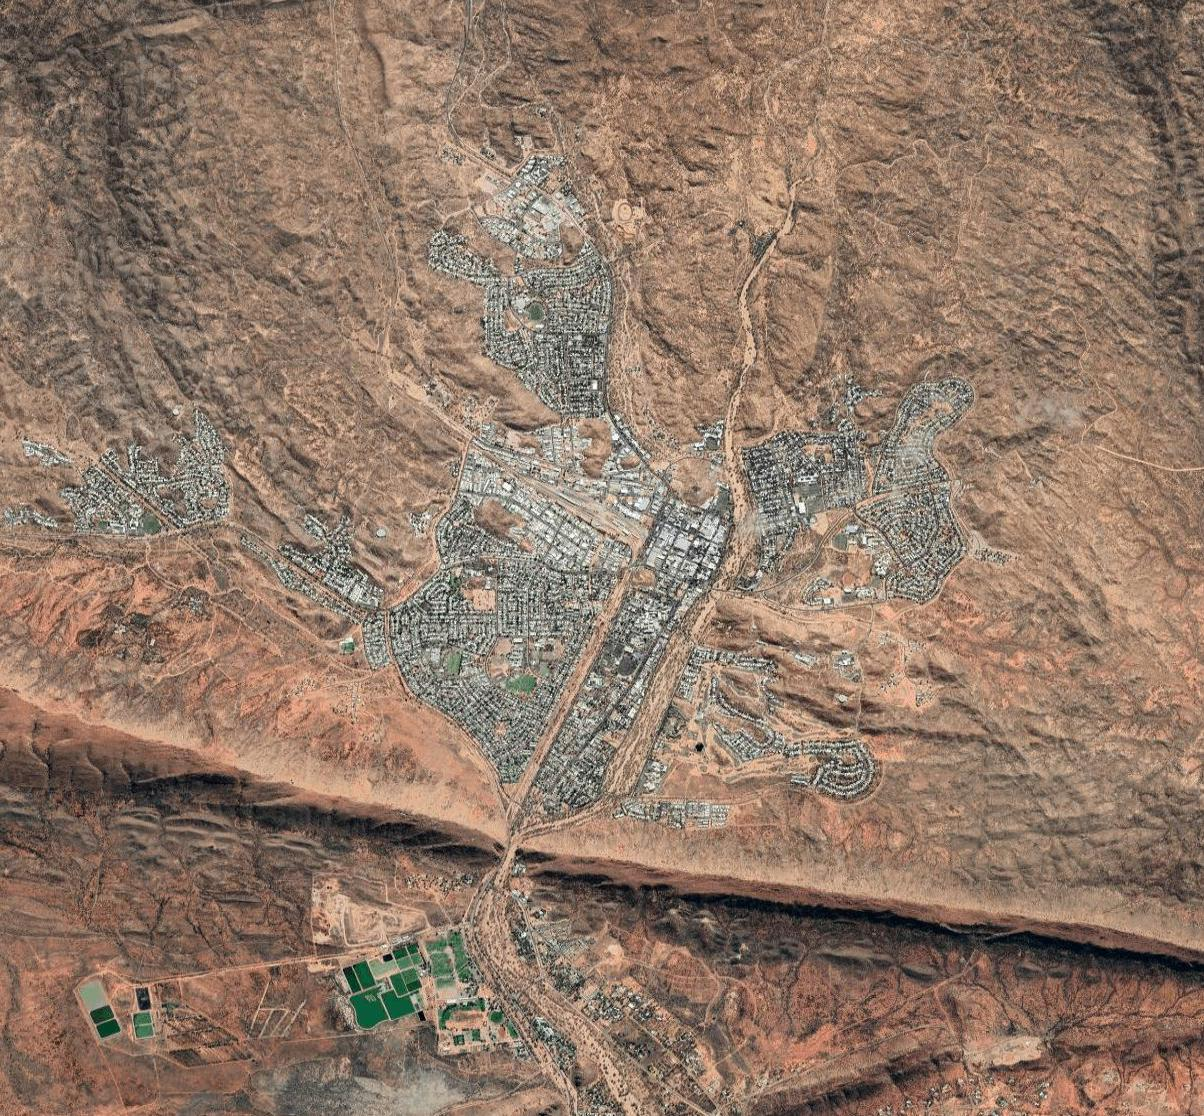train_station: (549, 476, 640, 535)
